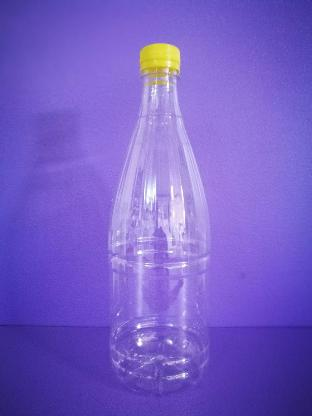Plastic Bottle: (109, 44, 211, 394)
